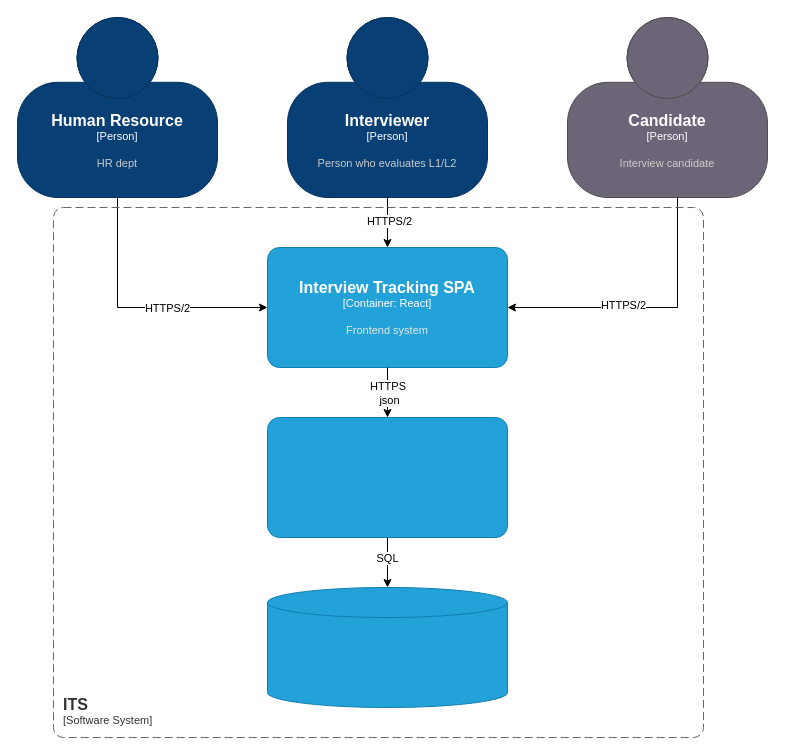
Image size: 785x755. Some labels were removed from this diagram. Here are the shapes that lost their labels. From the top down, the centre of each, then its label:
[387,477]: Interview Tracking System [Container: SpringBoot] Backend System
[387,647]: Database [Container: Postgres] Stores candidate, interviews & schedules
